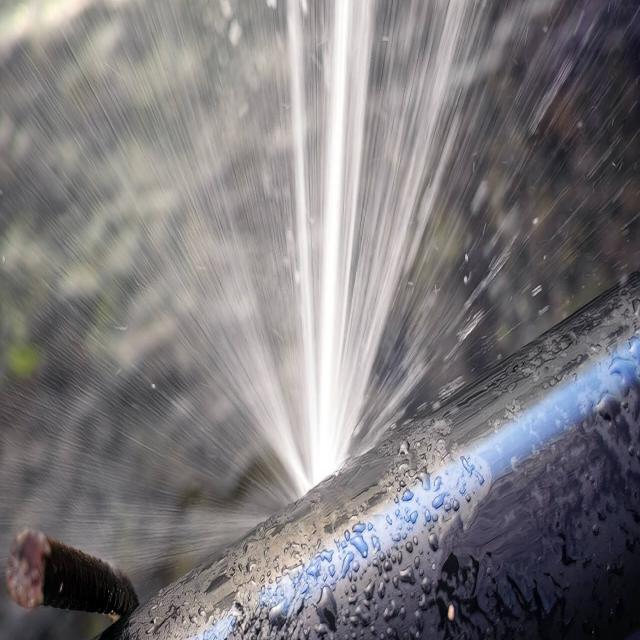leak: (0, 0, 640, 600)
